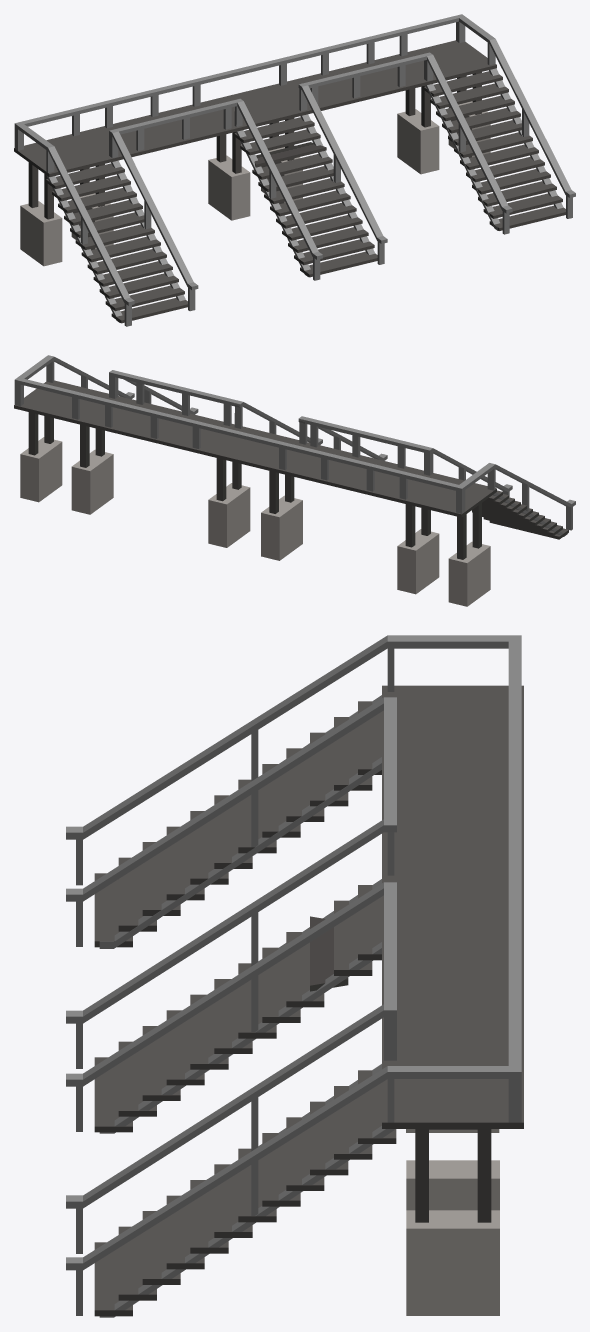
Rendered from stairs_left.fbx.
3 views of the same model, one above another, from view 1: azimuth 30°, elevation 25°; view 2: azimuth 150°, elevation 25°; view 3: azimuth 270°, elevation 25° (orthographic). The views are drawn at different scales.
Visible parts, largest first — view 1: SM_Env_Stair_Walkway_01__1_; view 2: SM_Env_Stair_Walkway_01__1_; view 3: SM_Env_Stair_Walkway_01__1_.
Boxes of the visible parts, box(x1,y1,x2,y2) form: SM_Env_Stair_Walkway_01__1_: box(14, 14, 575, 326); SM_Env_Stair_Walkway_01__1_: box(14, 355, 575, 606); SM_Env_Stair_Walkway_01__1_: box(66, 635, 523, 1317).
Size of the model in its own units: 3482 by 912 by 1542.
